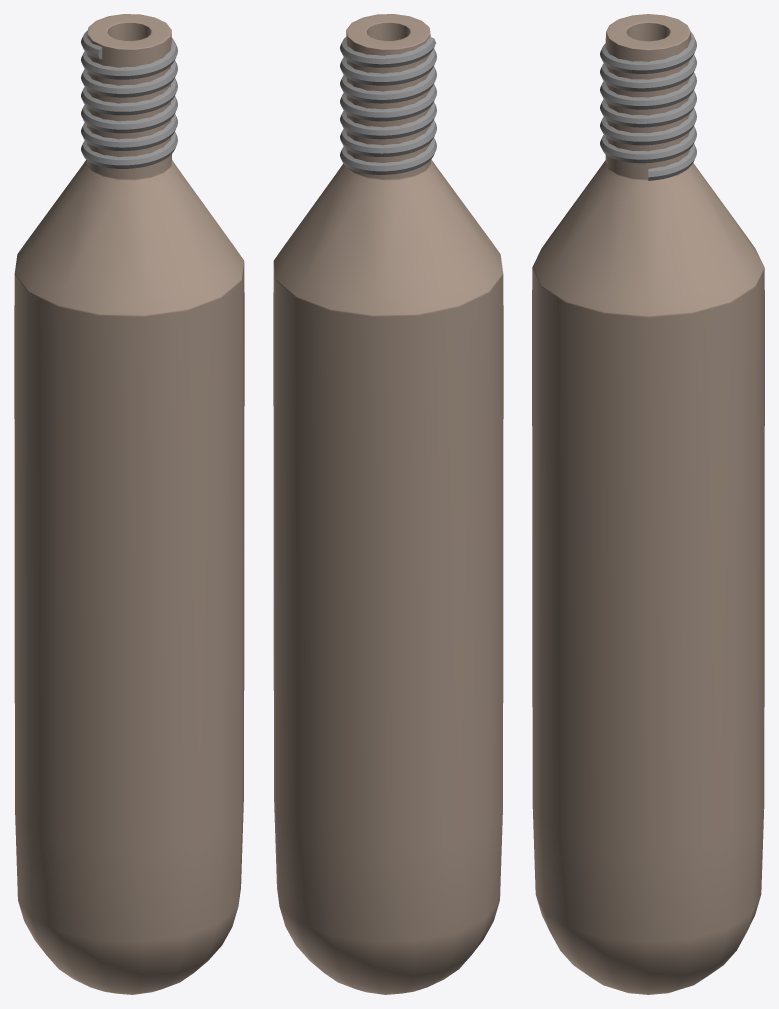
File: airTank_shaded_v001.fbx
3 views of the same model, side by side, from view 1: azimuth 30°, elevation 25°; view 2: azimuth 150°, elevation 25°; view 3: azimuth 270°, elevation 25° (orthographic).
Visible parts, largest first — view 1: polySurface7; view 2: polySurface7; view 3: polySurface7.
Part boxes in pixels (x1=…): polySurface7: x1=14, y1=14, x2=244, y2=994; polySurface7: x1=273, y1=14, x2=503, y2=994; polySurface7: x1=532, y1=14, x2=764, y2=994.
Bounding box in the file's own units: 23.59 × 106 × 23.59.
